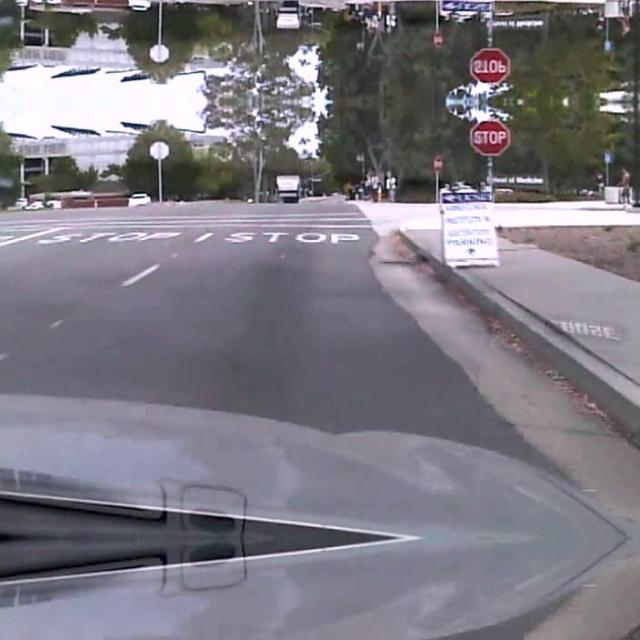stop: (469, 118, 509, 154), (469, 48, 509, 84)
